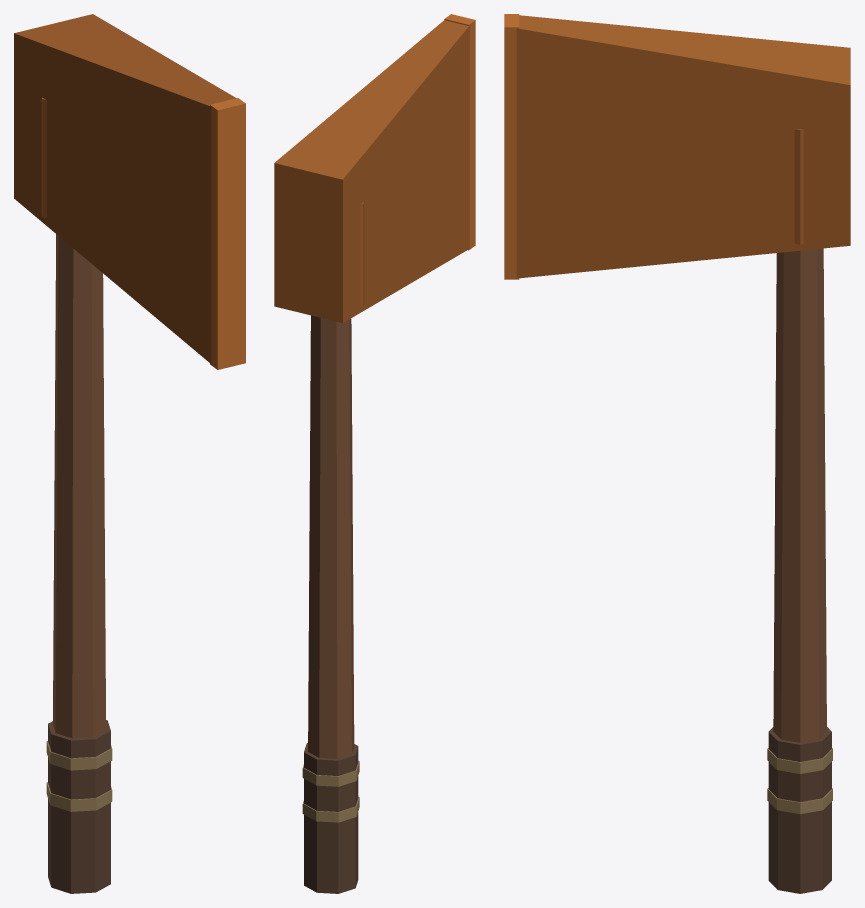
The model's file is tool_axe_copper.glb.
3 renders of one model, left to right at view 1: azimuth 30°, elevation 25°; view 2: azimuth 150°, elevation 25°; view 3: azimuth 270°, elevation 25°, orthographic. The views are drawn at different scales.
Visible parts, largest first — view 1: tool_axe_copper; view 2: tool_axe_copper; view 3: tool_axe_copper.
Boxes of the visible parts, x1,y1,x2,y2 form: tool_axe_copper: (14, 14, 245, 893); tool_axe_copper: (274, 14, 475, 893); tool_axe_copper: (504, 14, 850, 893).
Bounding box in the file's own units: 0.07 × 0.75 × 0.274.
